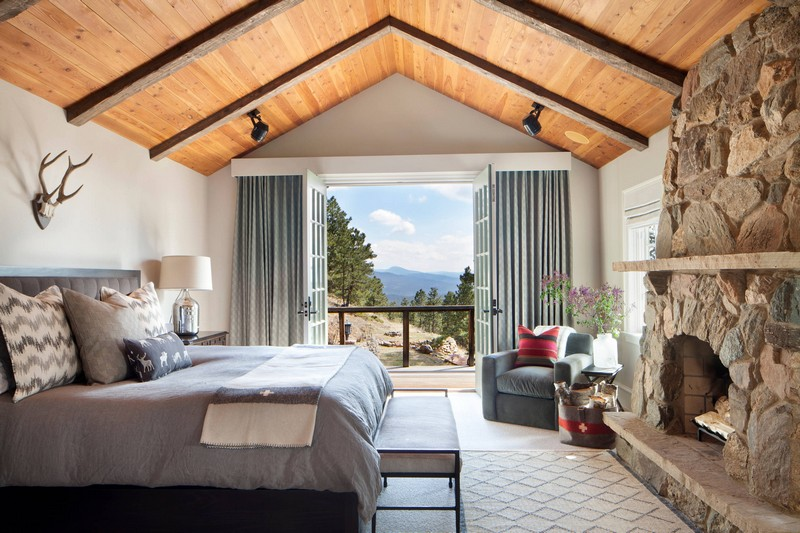bed: (4, 265, 387, 518)
door: (300, 166, 502, 381)
lamp: (159, 252, 212, 342)
sofa: (479, 325, 596, 430)
stool: (373, 388, 463, 525), (585, 362, 625, 410)
